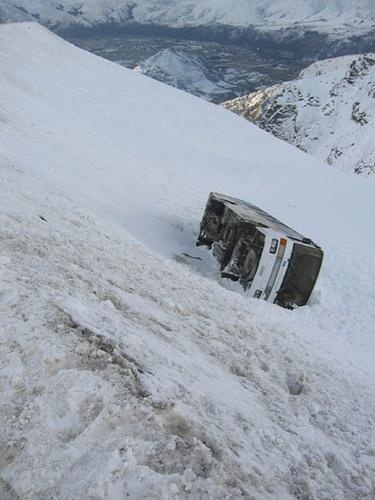bus: (195, 192, 325, 310)
